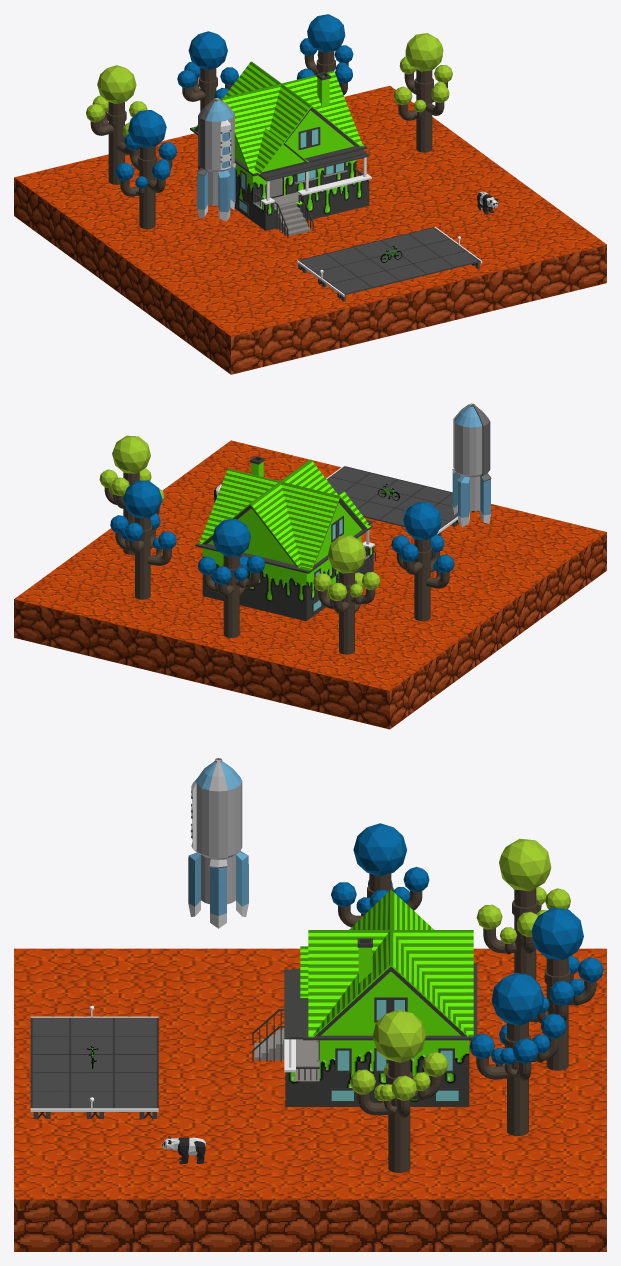
The picture shows the model from 3 angles, top to bottom: view 1: azimuth 30°, elevation 25°; view 2: azimuth 150°, elevation 25°; view 3: azimuth 270°, elevation 25°; orthographic projection. The views are drawn at different scales.
Visible parts, largest first — view 1: Cube.001, Cube.754, OBJRANDOM_ROCKETSHIP; view 2: Cube.001, Cube.754, OBJRANDOM_ROCKETSHIP; view 3: Cube.001, Cube.754, OBJRANDOM_ROCKETSHIP, ANIMAL_PANDA.
Part boxes in pixels (x1,y1,x2,y2): Cube.001: (14, 14, 606, 374); Cube.754: (190, 61, 371, 237); OBJRANDOM_ROCKETSHIP: (197, 98, 235, 221); Cube.001: (14, 435, 606, 729); Cube.754: (195, 456, 376, 621); OBJRANDOM_ROCKETSHIP: (452, 403, 491, 526); Cube.001: (14, 823, 606, 1251); Cube.754: (252, 890, 477, 1106); OBJRANDOM_ROCKETSHIP: (188, 758, 248, 928); ANIMAL_PANDA: (162, 1136, 205, 1163).
Bounding box in the file's own units: 4000 × 2154 × 4000.
Materials: 33 (5 with a texture image).
